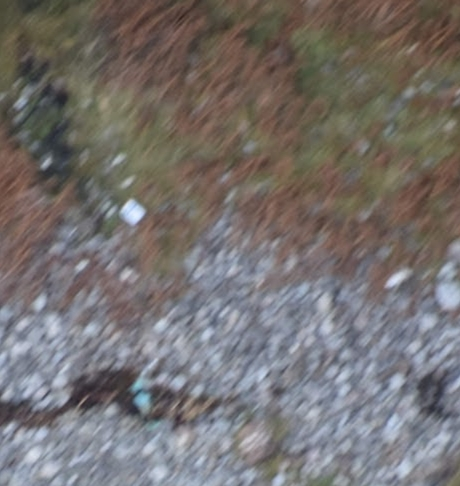white_in_green: (99, 355, 189, 435), (92, 172, 182, 249)
